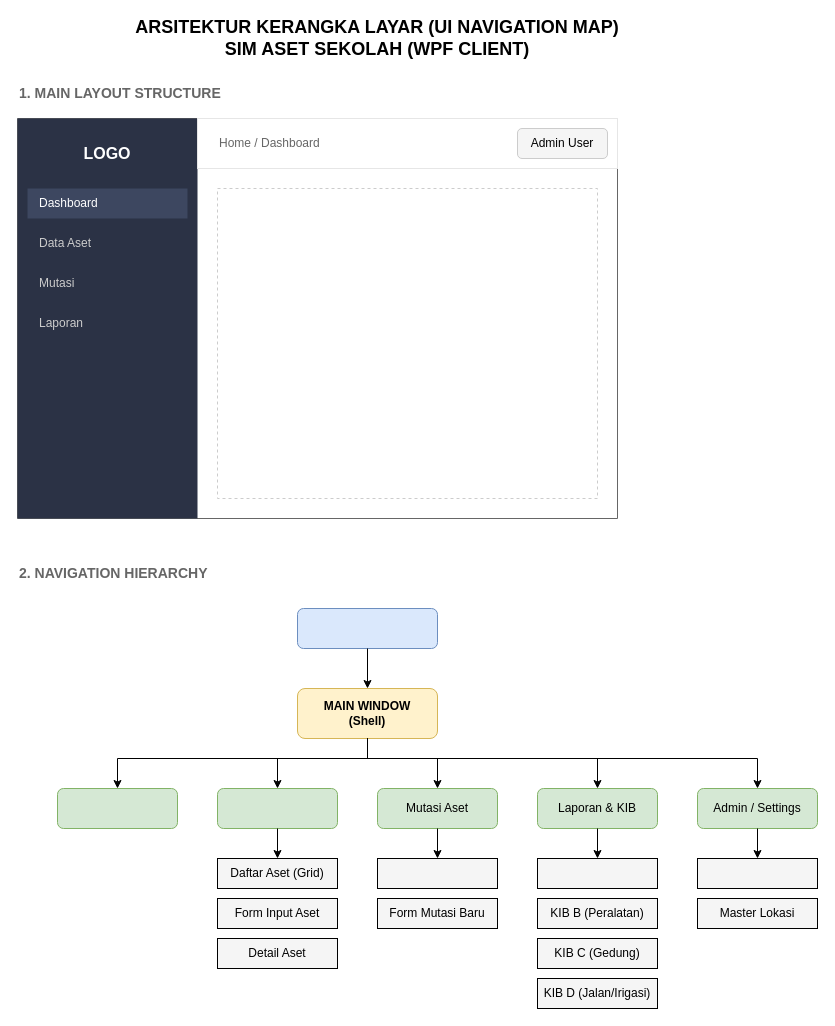
Some shapes in this 835 by 1026 pixel diagram are drawn without their labels. The shapes that lost their labels are listed below. From the top down, each one's box as (x1, y1, x2, y2) in pixels, then its label:
(216, 188, 598, 498): CONTENT REGION (Injected Views)
(296, 608, 438, 648): LOGIN SCREEN
(56, 788, 178, 828): Dashboard View
(216, 788, 338, 828): Manajemen Aset
(376, 858, 498, 888): Riwayat Mutasi
(536, 858, 658, 888): KIB A (Tanah)
(696, 858, 818, 888): Manajemen User
